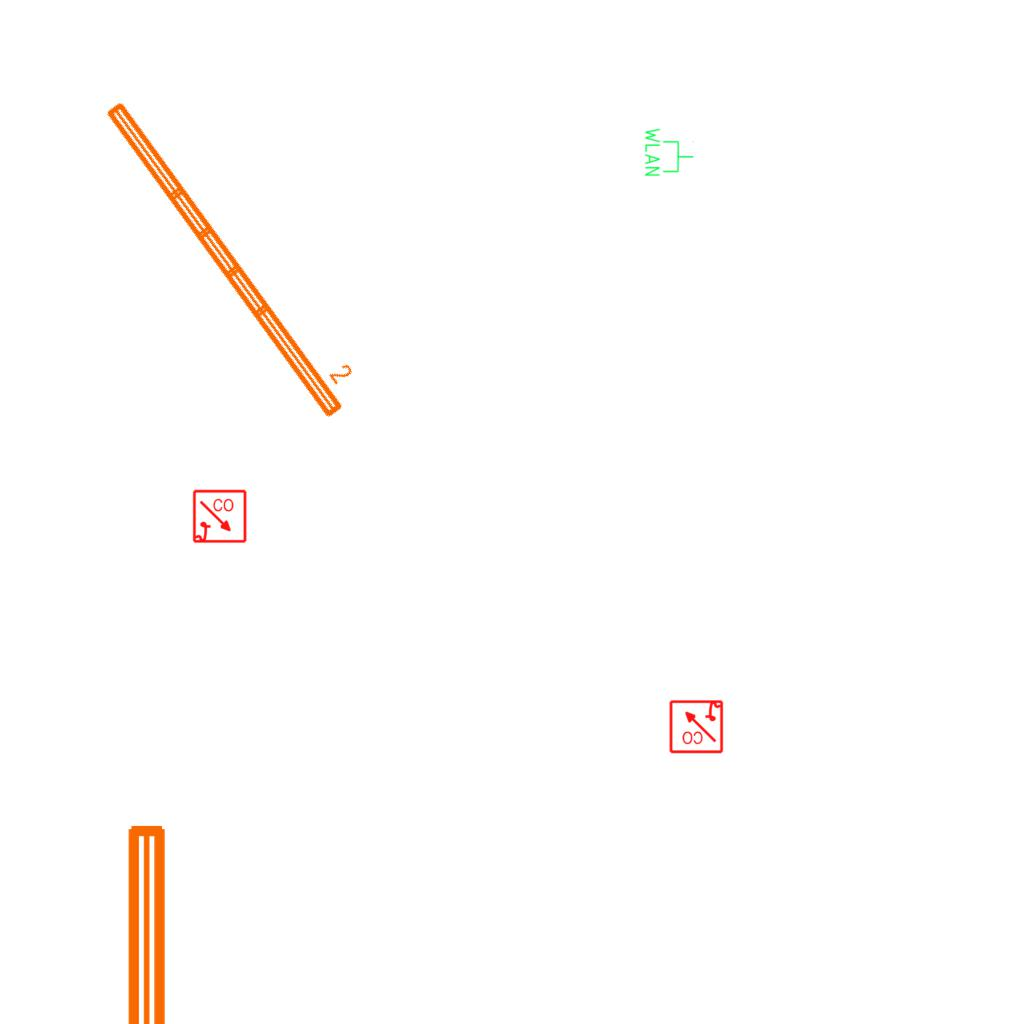Ambulanz_Pendelleuchte_LED: (98, 78, 371, 426), (116, 815, 228, 1024)
ROA_Rauchmelder_optisch_mit_Signalgeber_(Sockelsirene): (668, 698, 724, 754), (192, 489, 248, 545)
WLAN: (643, 126, 695, 178)
